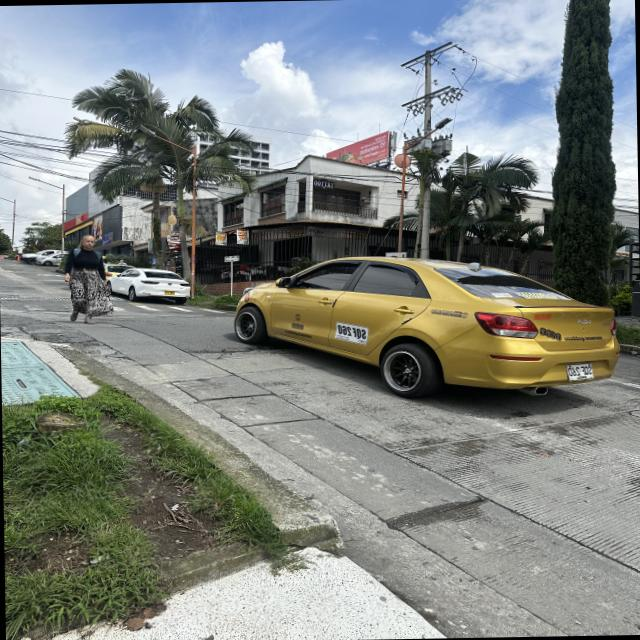number plate: (334, 322, 368, 344), (566, 362, 594, 380)
